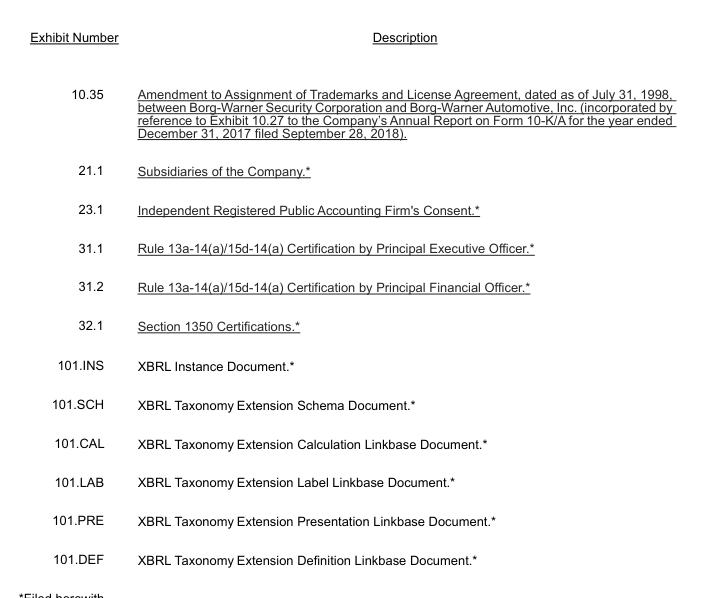table: (29, 29, 671, 566)
table column: (127, 29, 671, 566), (29, 29, 127, 566)
table column header: (29, 29, 671, 65)
table row: (29, 65, 671, 150), (29, 305, 671, 345), (29, 150, 671, 189), (29, 189, 671, 228), (29, 266, 671, 305), (29, 345, 671, 384), (29, 384, 671, 423), (29, 423, 671, 462), (29, 500, 671, 539), (29, 228, 671, 266), (29, 462, 671, 500), (29, 29, 671, 65), (29, 539, 671, 566)
